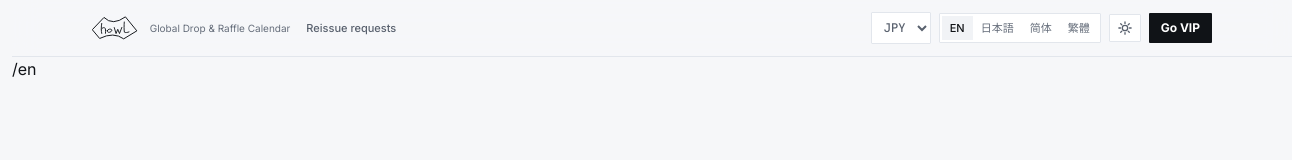
Test: Header › switches language from the portal without appending an empty segment
Click the button "简体" at (1041, 28), box x1=1022 y1=16 x2=1060 y2=40
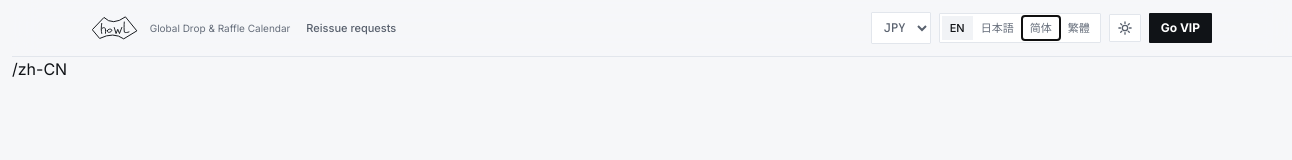
Expected: the text with test id "path" reads "/zh-CN", x1=12 y1=59 x2=67 y2=79
